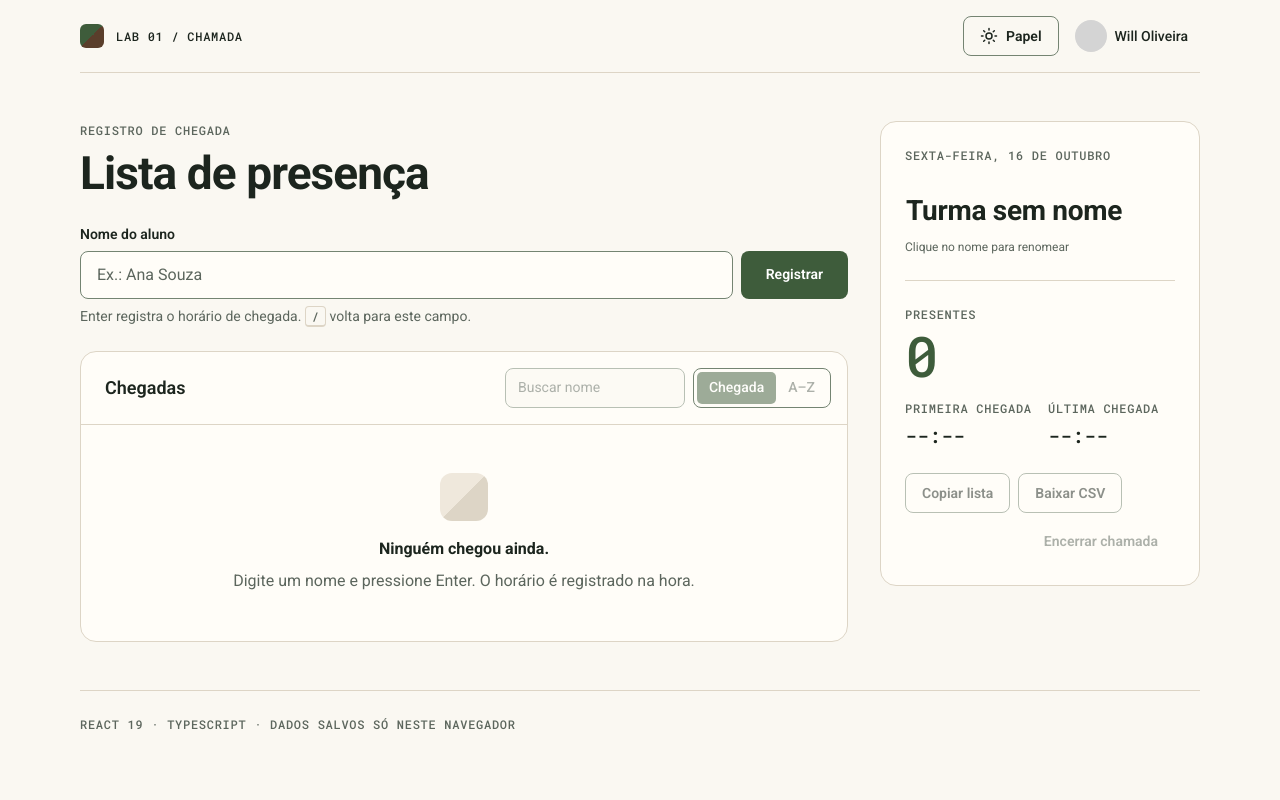
Test: Lista de presença › recusa nome repetido, sem diferenciar acento nem maiúscula
In the field labelled "Nome do aluno": (406, 275) [80, 251, 733, 299], type "José Lima"
Then press Enter
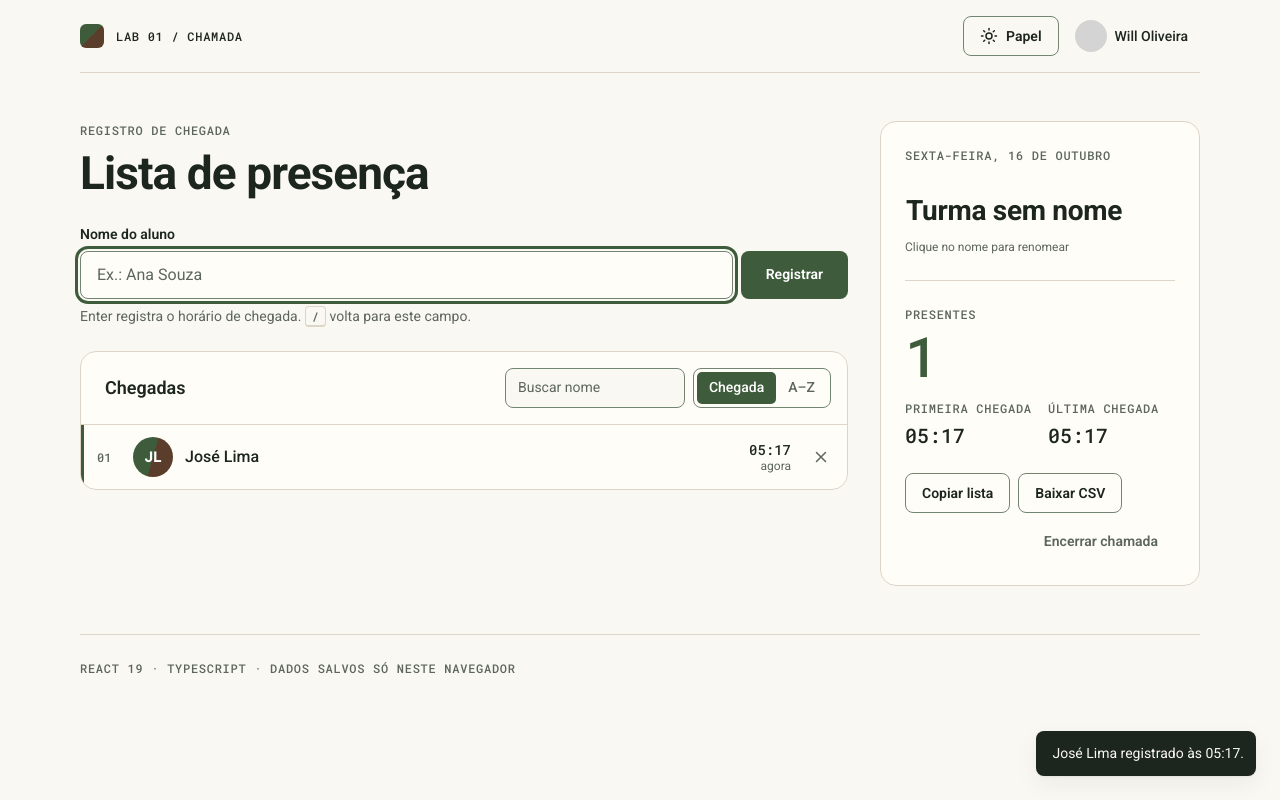
In the field labelled "Nome do aluno": (406, 275) [80, 251, 733, 299], type "jose lima"
Then press Enter
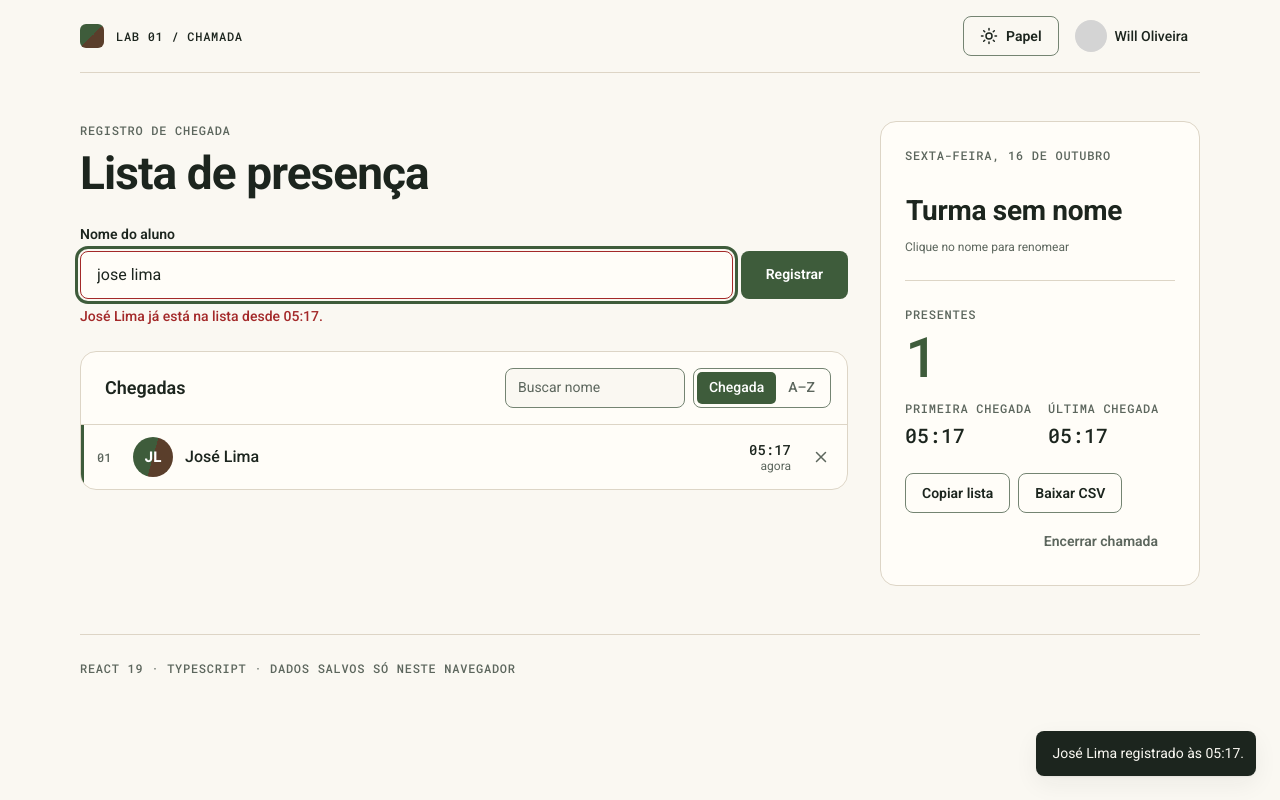
expect the number of list items is 1: met, box [81, 425, 847, 489]
expect the message "José Lima já está na lista desde 05:17." is shown: met, box [80, 308, 323, 324]
